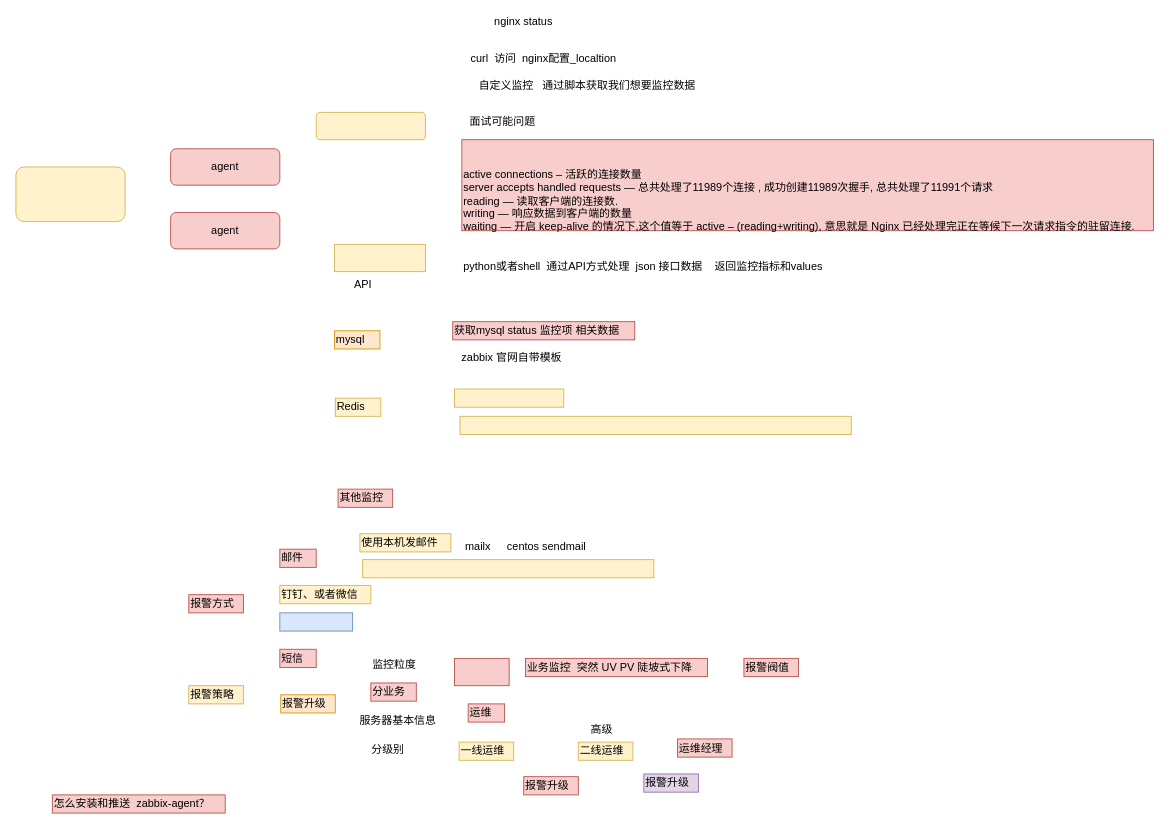
Some shapes in this 1169 by 829 pixel diagram are drawn without their labels. The shapes that lost their labels are listed below. From the top down, each one's centre as x and y in pixels, then its label:
At pixel 370 125: "nginx监控数据".
At pixel 70 194: "zabbix-server".
At pixel 379 257: "业务级别监控 uwsgi".
At pixel 509 397: "如何计算缓存命中率".
At pixel 655 425: "rejected_connections : ##因为超过最大连接数被拒接的请求数量".
At pixel 508 568: "使用外部邮箱（邮件服务器）、使用163、qq、126等发送".
At pixel 316 621: "webhooks等".
At pixel 481 671: "开发人员 产品".
